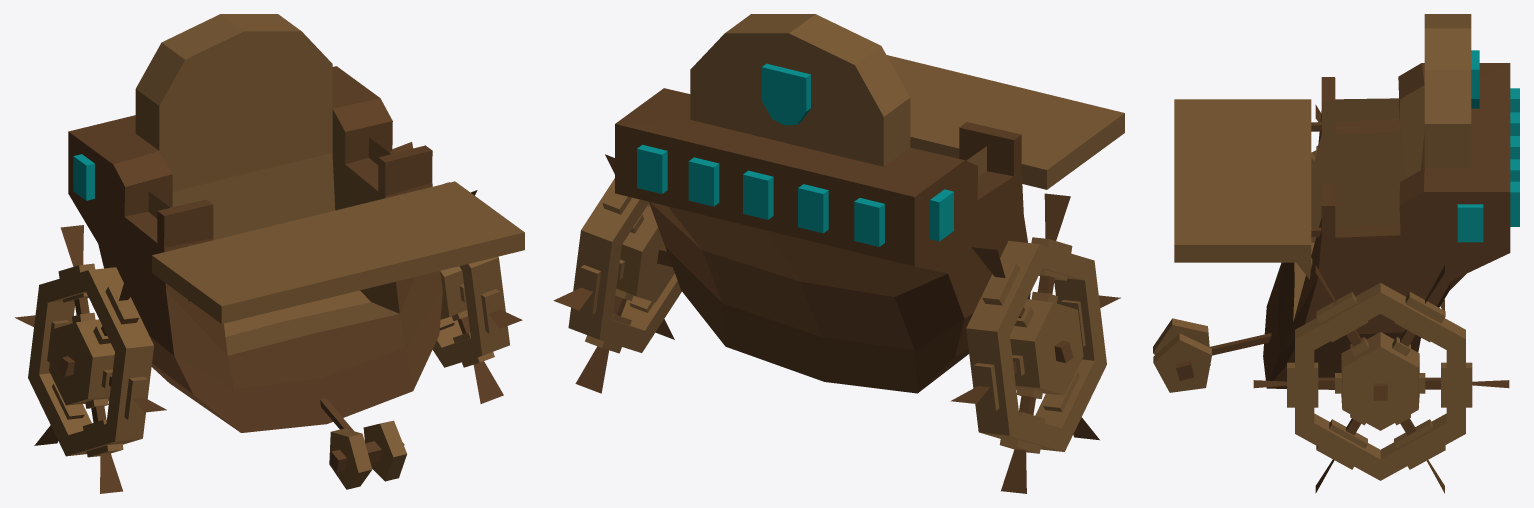
File: boogmanRolstoel 1.fbx
The picture shows the model from 3 angles, left to right: view 1: azimuth 30°, elevation 25°; view 2: azimuth 150°, elevation 25°; view 3: azimuth 270°, elevation 25°; orthographic projection. The views are drawn at different scales.
Parts seen in each view (by area): view 1: rolstoel_boogman; view 2: rolstoel_boogman; view 3: rolstoel_boogman.
Part boxes in pixels (left/top/right/bottom): rolstoel_boogman: left=15, top=14, right=524, bottom=493; rolstoel_boogman: left=553, top=14, right=1124, bottom=493; rolstoel_boogman: left=1153, top=14, right=1519, bottom=493.
Size of the model in its own units: 4.2 by 3.65 by 3.27.
